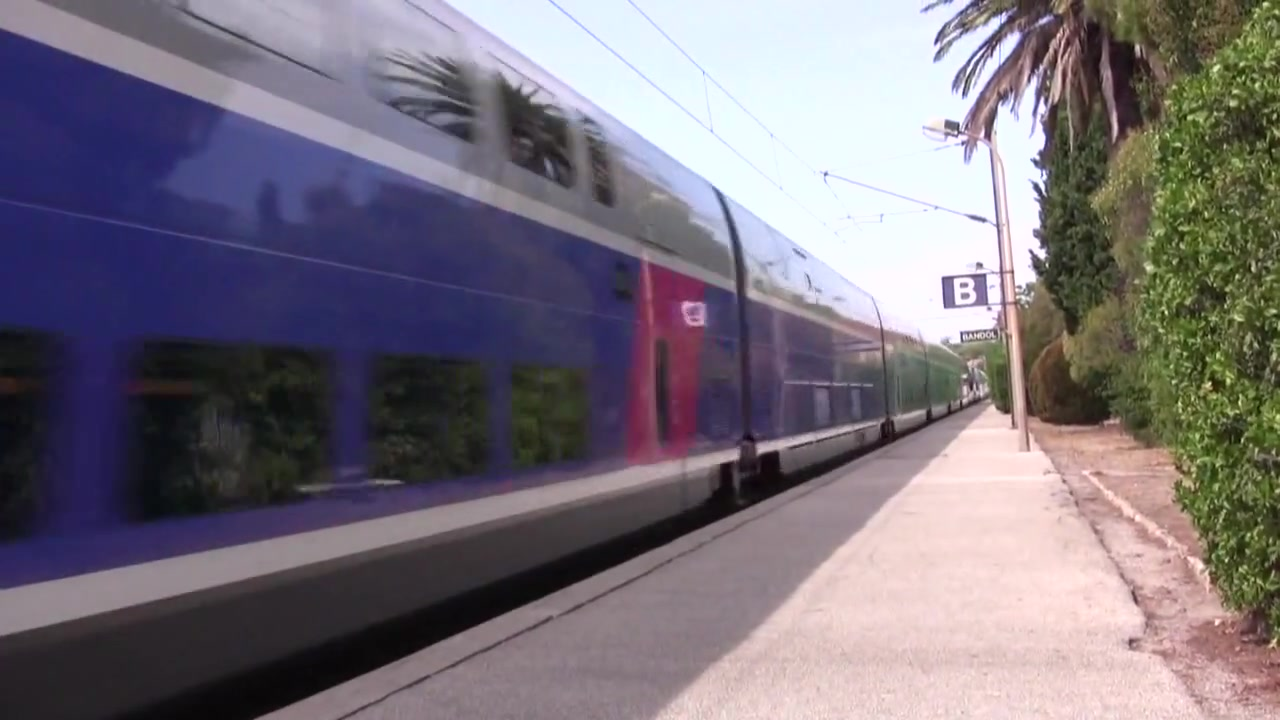train: (1, 1, 980, 720)
